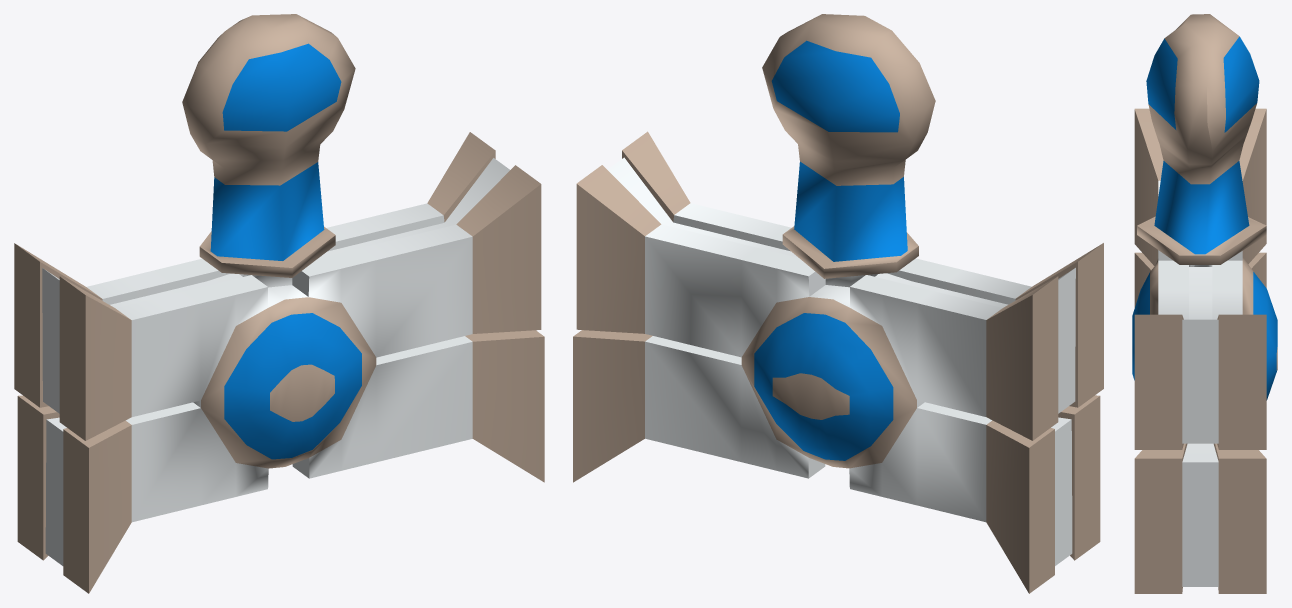
The model's file is cekic4.fbx.
3 views of the same model, side by side, from view 1: azimuth 30°, elevation 25°; view 2: azimuth 150°, elevation 25°; view 3: azimuth 270°, elevation 25° (orthographic). The views are drawn at different scales.
Parts seen in each view (by area): view 1: Plane; view 2: Plane; view 3: Plane.
Part boxes in pixels (box(x1,y1,x2,y2)): Plane: box(14, 14, 544, 593); Plane: box(573, 14, 1103, 593); Plane: box(1132, 14, 1277, 593).
Size of the model in its own units: 327 by 337 by 96.98.
